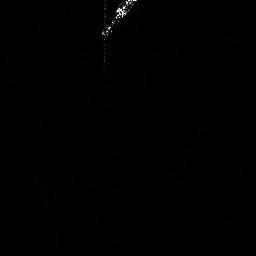ship: (98, 1, 139, 41)
